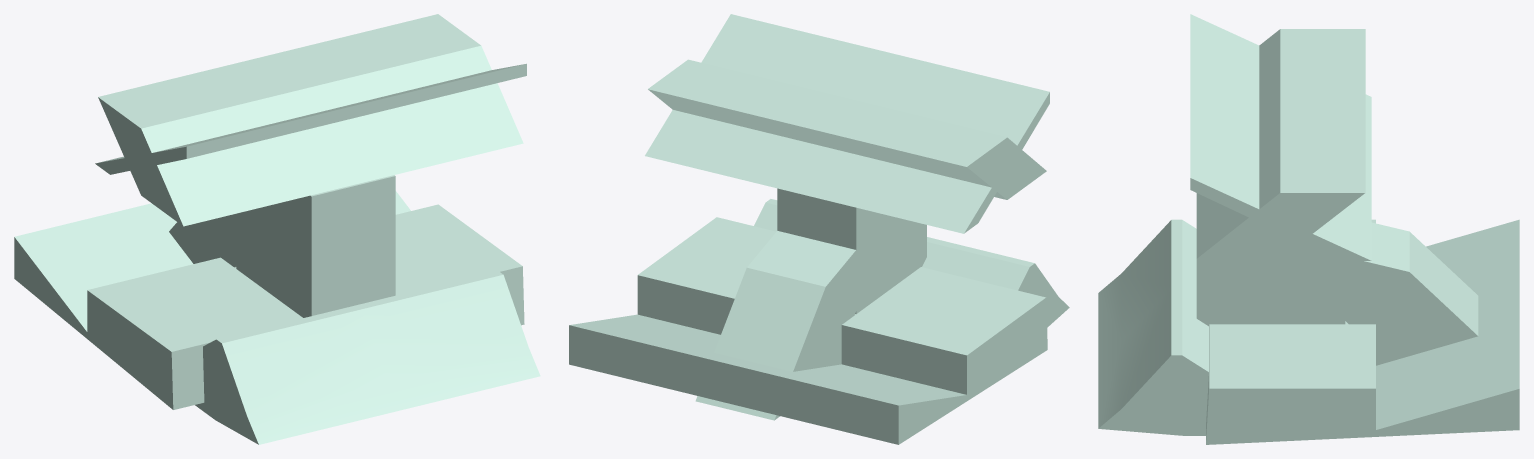
The picture shows the model from 3 angles, left to right: view 1: azimuth 30°, elevation 25°; view 2: azimuth 150°, elevation 25°; view 3: azimuth 270°, elevation 25°; orthographic projection. The views are drawn at different scales.
Visible parts, largest first — view 1: Renderer Node; view 2: Renderer Node; view 3: Renderer Node.
Boxes of the visible parts, x1,y1,x2,y2 form: Renderer Node: (14,14,540,444); Renderer Node: (569,14,1069,444); Renderer Node: (1098,14,1519,444).
Size of the model in its own units: 1.5 by 1.13 by 1.58.
